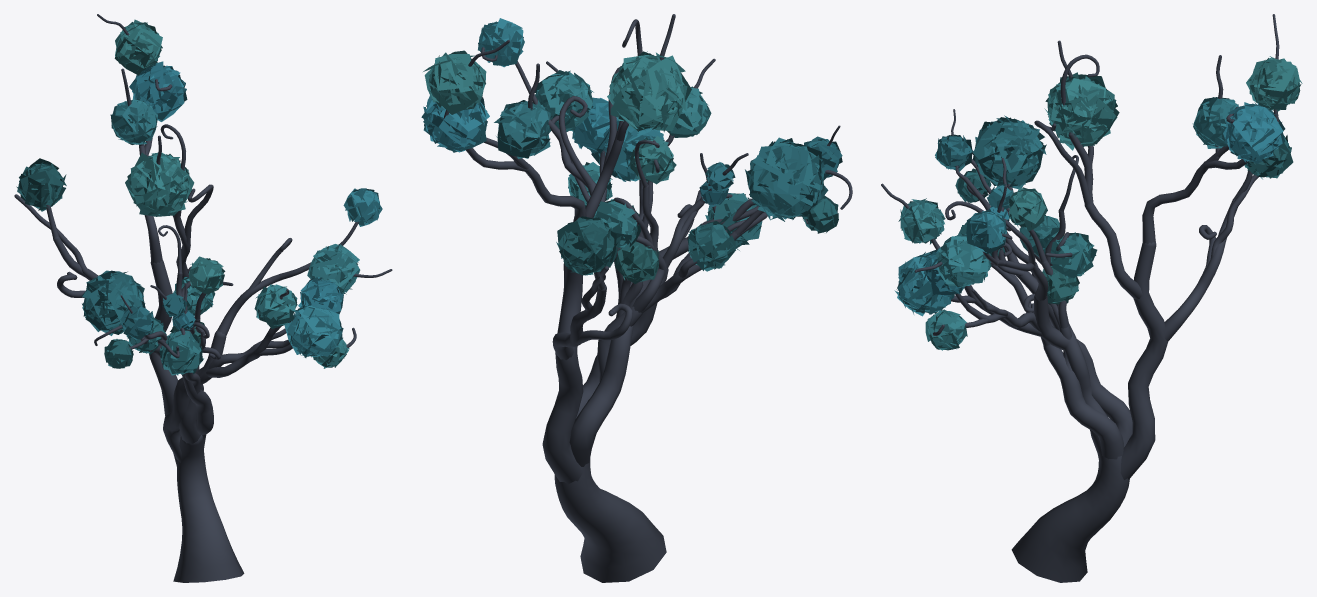
The model's file is spooky-4843.glb.
The picture shows the model from 3 angles, left to right: view 1: azimuth 30°, elevation 25°; view 2: azimuth 150°, elevation 25°; view 3: azimuth 270°, elevation 25°; orthographic projection. The views are drawn at different scales.
Parts seen in each view (by area): view 1: leaves, wood; view 2: leaves, wood; view 3: wood, leaves.
Boxes of the visible parts, box(x1,y1,x2,y2) form: leaves: box(16, 19, 382, 375); wood: box(14, 14, 392, 582); leaves: box(421, 18, 842, 283); wood: box(443, 14, 852, 582); wood: box(881, 14, 1279, 582); leaves: box(894, 56, 1302, 350).
Bounding box in the file's own units: 6.04 × 9.92 × 6.86.
